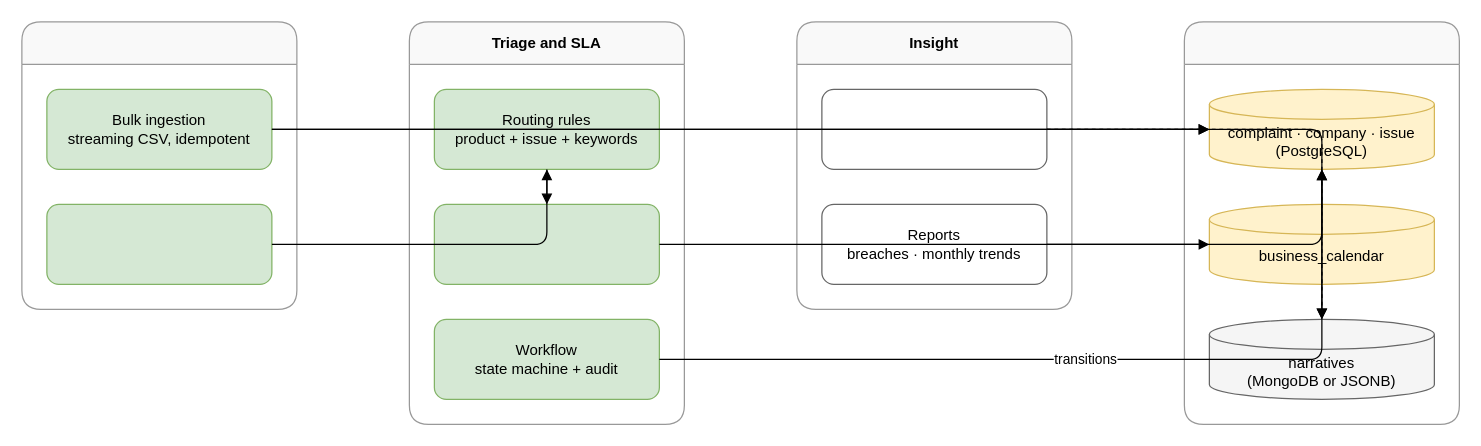
Some shapes in this 1481 by 446 pixel diagram are drawn without their labels. Here are the shapes that lost their labels. From the top down, the box of each, then its label:
(821, 88, 1047, 169): Search full-text (GIN)
(21, 21, 297, 309): Intake
(1183, 21, 1459, 424): Data
(46, 203, 272, 284): New complaint API (bank channels)
(433, 203, 659, 284): SLA clock business days + holidays
